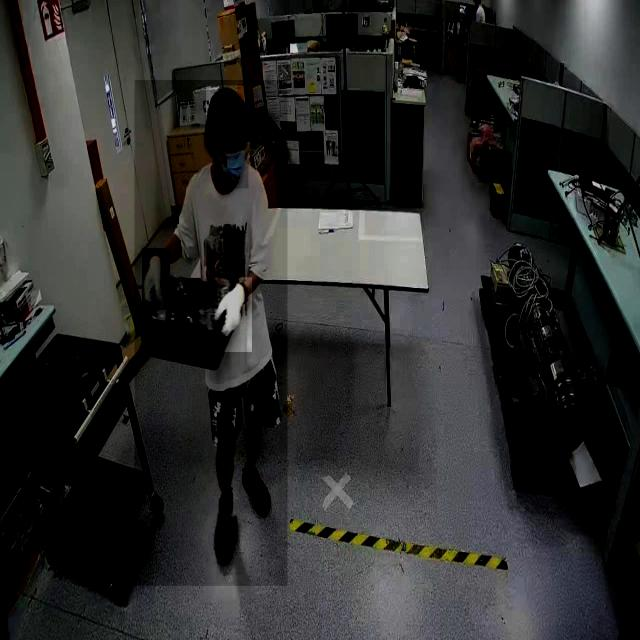face_mask: (214, 136, 248, 188)
hand_glove: (214, 277, 252, 352), (142, 248, 170, 310)
head_nohelmet: (206, 85, 251, 128)
person: (134, 80, 288, 587)
shoes: (239, 460, 275, 526), (210, 483, 236, 571)
